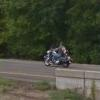Motorcycle: (32, 38, 78, 69)
